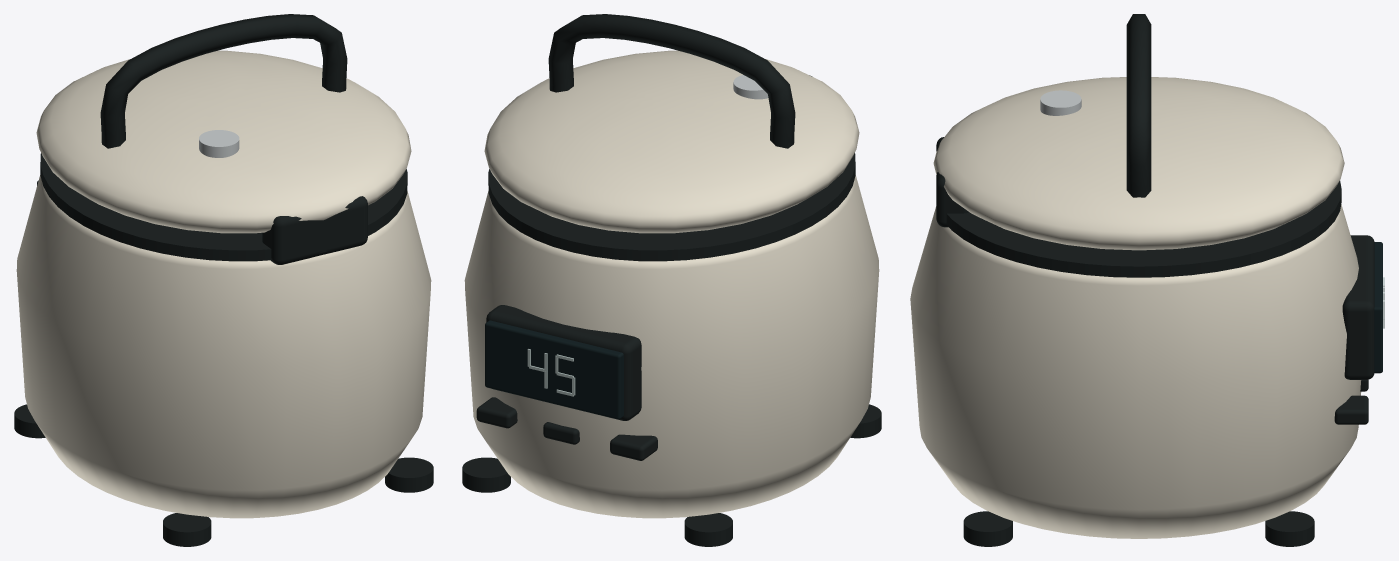
Rendered from kitchen-rice-cooker.glb.
The picture shows the model from 3 angles, left to right: view 1: azimuth 30°, elevation 25°; view 2: azimuth 150°, elevation 25°; view 3: azimuth 270°, elevation 25°; orthographic projection.
Visible parts, largest first — view 1: cream_surfaces, dark_surfaces, steel_surfaces; view 2: cream_surfaces, dark_surfaces, screen_surfaces, mark_surfaces, steel_surfaces; view 3: cream_surfaces, dark_surfaces, screen_surfaces, steel_surfaces.
Part boxes in pixels (left/top/right/bottom): cream_surfaces: left=16, top=50, right=431, bottom=518; dark_surfaces: left=14, top=14, right=433, bottom=546; steel_surfaces: left=199, top=130, right=239, bottom=157; cream_surfaces: left=464, top=50, right=879, bottom=518; dark_surfaces: left=462, top=14, right=881, bottom=546; screen_surfaces: left=485, top=320, right=623, bottom=419; mark_surfaces: left=527, top=349, right=575, bottom=396; steel_surfaces: left=733, top=75, right=768, bottom=99; cream_surfaces: left=910, top=77, right=1361, bottom=538; dark_surfaces: left=936, top=14, right=1374, bottom=546; screen_surfaces: left=1374, top=242, right=1382, bottom=373; steel_surfaces: left=1040, top=90, right=1081, bottom=115.
Size of the model in its own units: 0.298 by 0.3501 by 0.346.
